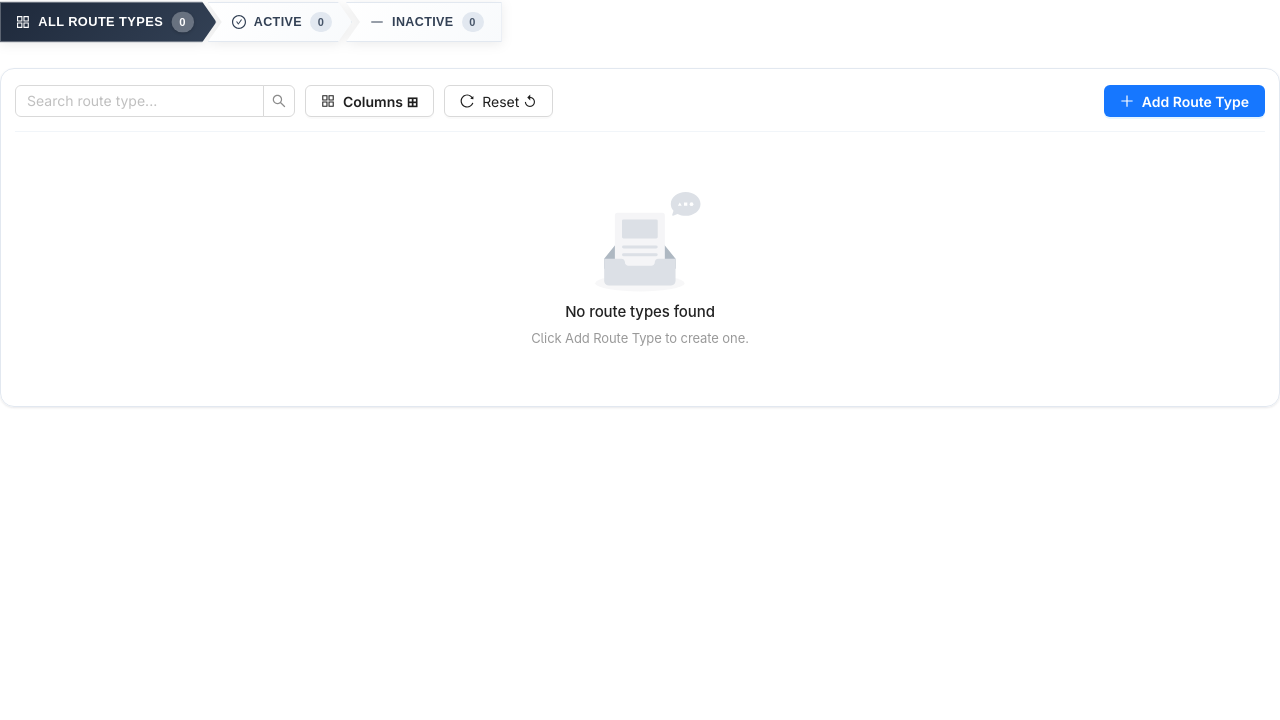
it: RouteTypeManagement save flow › create: footer [Cancel][Save] (no OK), sends companyId, success shows the backend Route Code
This screenshot has width=1280, height=720.
Click the button "Add Route Type".
click(1184, 101)  # box [1104,85,1265,117]
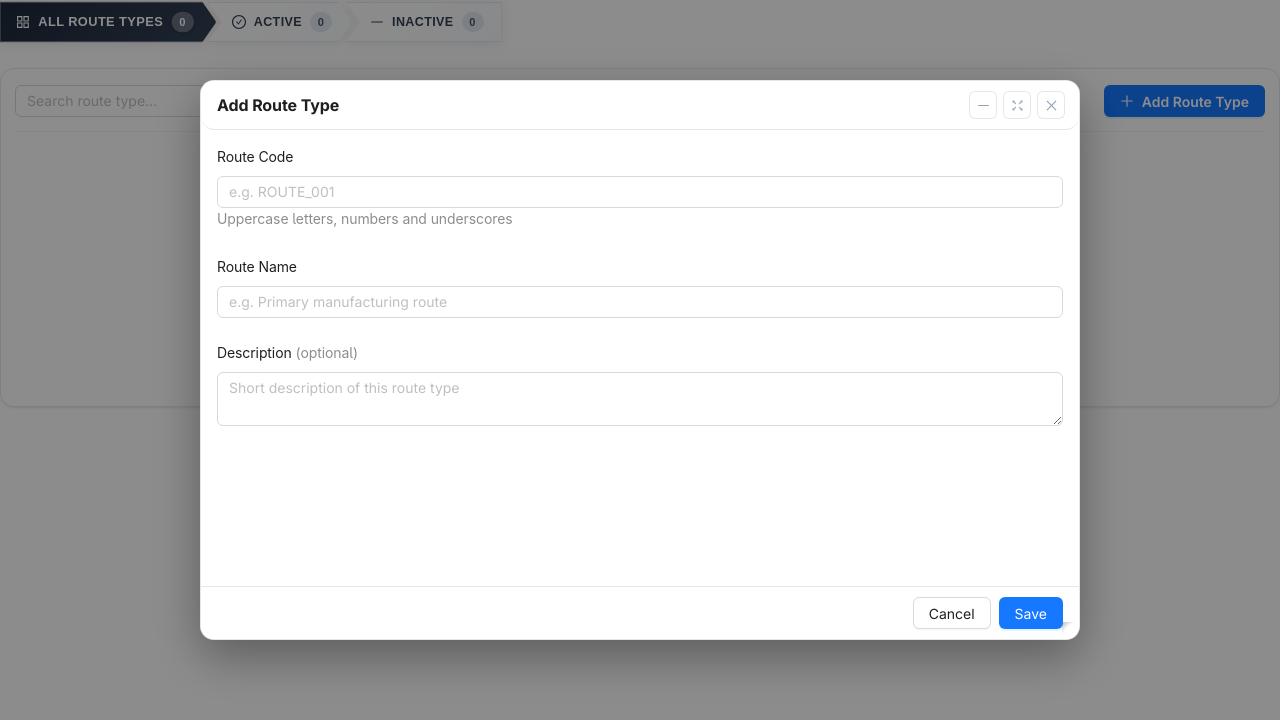
expect the dialog is shown: met, box [200,80,1080,640]
Type "CCD" into the field labelled "Route Code".
click(640, 192); type("CCD")  # box [217,176,1063,208]
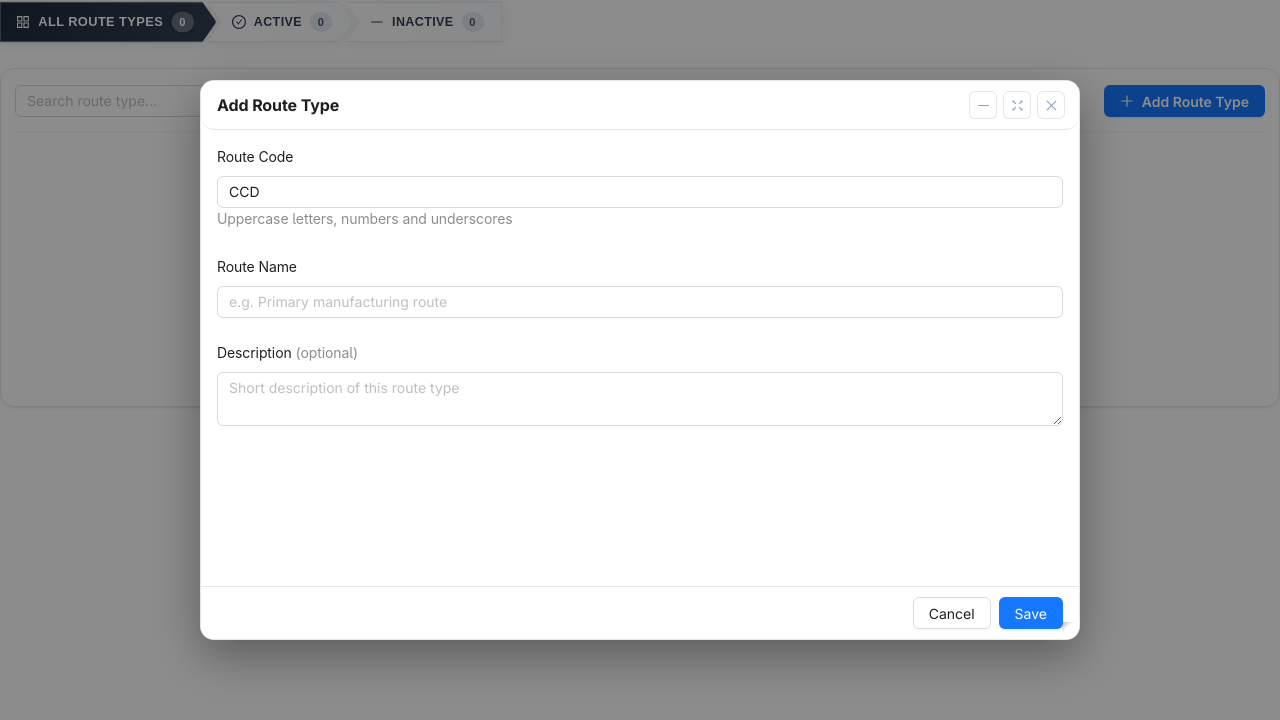
Type "Casting Conduit" into the field labelled "Route Name".
click(640, 302); type("Casting Conduit")  # box [217,286,1063,318]
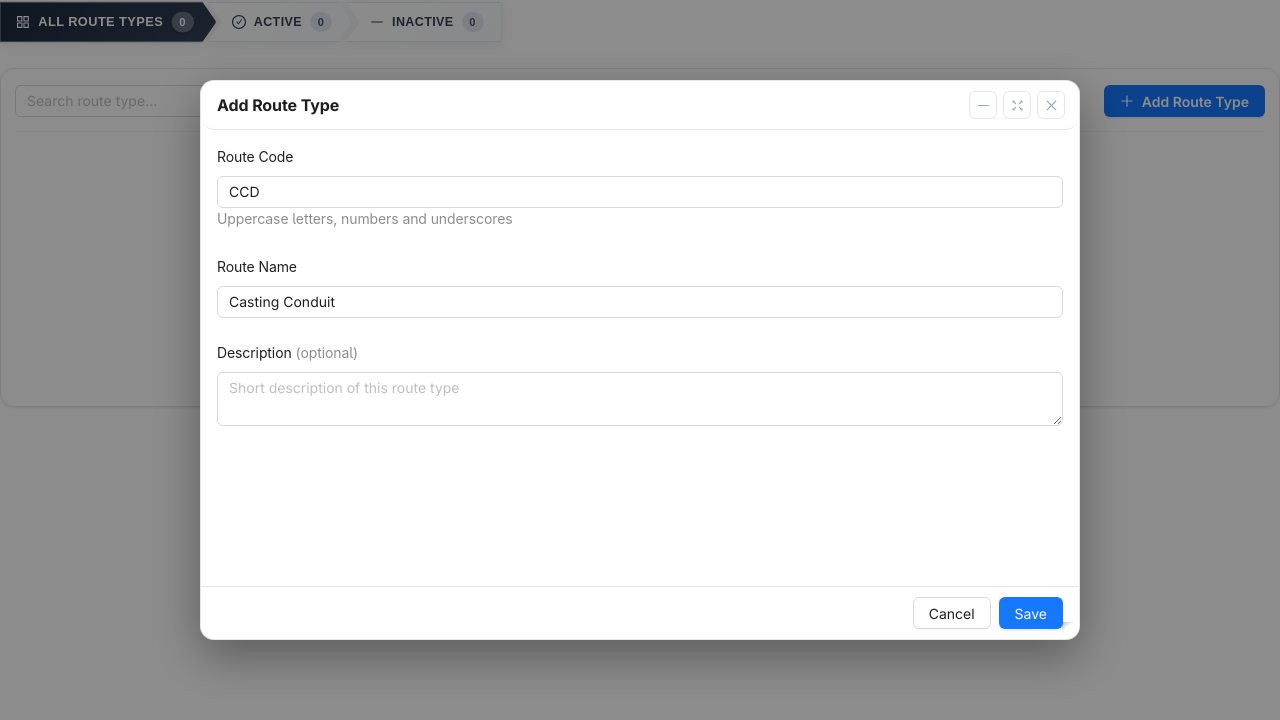
Click the button "Save".
click(1031, 613)  # box [999,597,1063,629]
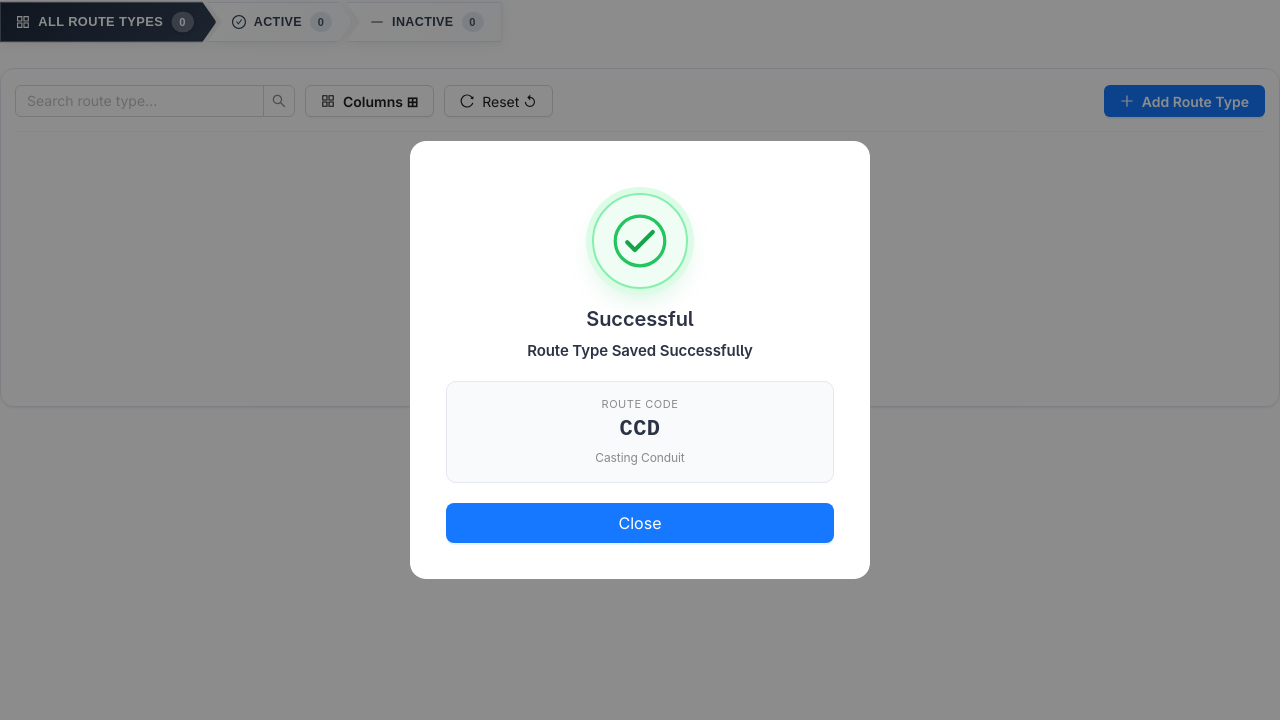
expect the text "Route Code" is shown: met, box [602,396,678,410]
expect the heading "Successful" is shown: met, box [586,307,694,331]
expect the text "Route Type Saved Successfully" is shown: met, box [527,341,753,360]
